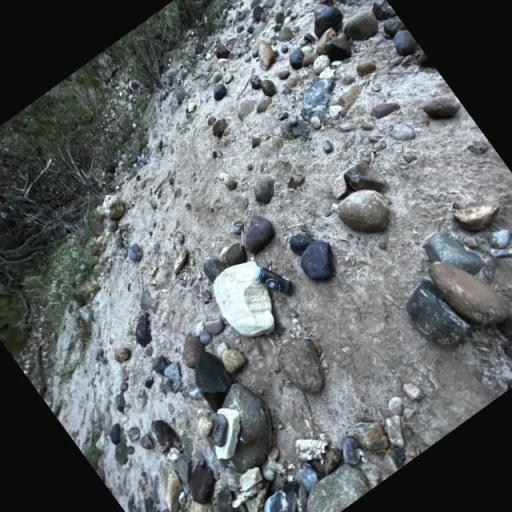bottle: (246, 254, 297, 308)
